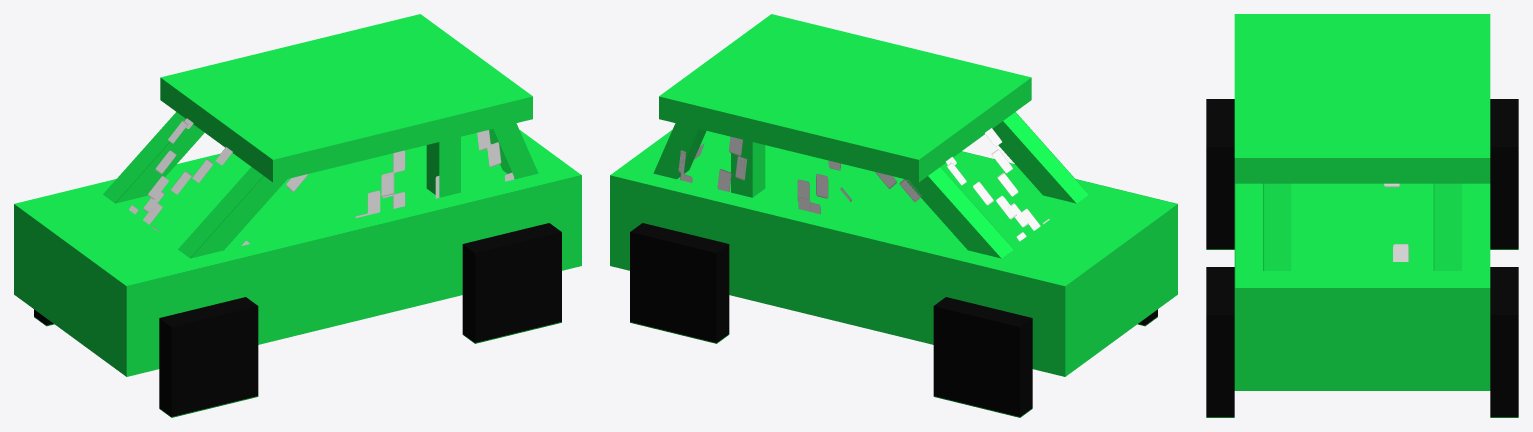
File: lamborghini_entity.obj
3 renders of one model, left to right at view 1: azimuth 30°, elevation 25°; view 2: azimuth 150°, elevation 25°; view 3: azimuth 270°, elevation 25°, orthographic. The views are drawn at different scales.
Visible parts, largest first — view 1: corpo, parte de cima, roda, barra frente, vidro, barra suporte, barra tras; view 2: corpo, parte de cima, roda, barra frente, vidro, barra tras, barra suporte; view 3: corpo, parte de cima, roda, barra tras, vidro.
Boxes of the visible parts, <box> form: corpo: <box>14,130,581,376</box>; parte de cima: <box>160,14,532,182</box>; roda: <box>34,223,561,417</box>; barra frente: <box>103,112,287,258</box>; vidro: <box>128,118,514,231</box>; barra suporte: <box>426,137,460,197</box>; barra tras: <box>489,123,538,179</box>; corpo: <box>610,130,1177,376</box>; parte de cima: <box>659,14,1031,182</box>; roda: <box>630,223,1157,417</box>; barra frente: <box>904,112,1088,258</box>; vidro: <box>678,128,1049,241</box>; barra tras: <box>653,123,706,179</box>; barra suporte: <box>731,139,765,197</box>; corpo: <box>1234,183,1490,390</box>; parte de cima: <box>1234,14,1490,183</box>; roda: <box>1206,99,1518,417</box>; barra tras: <box>1263,183,1461,270</box>; vidro: <box>1384,183,1408,261</box>.
Size of the model in its own units: 1.31 by 0.61 by 0.6875.
